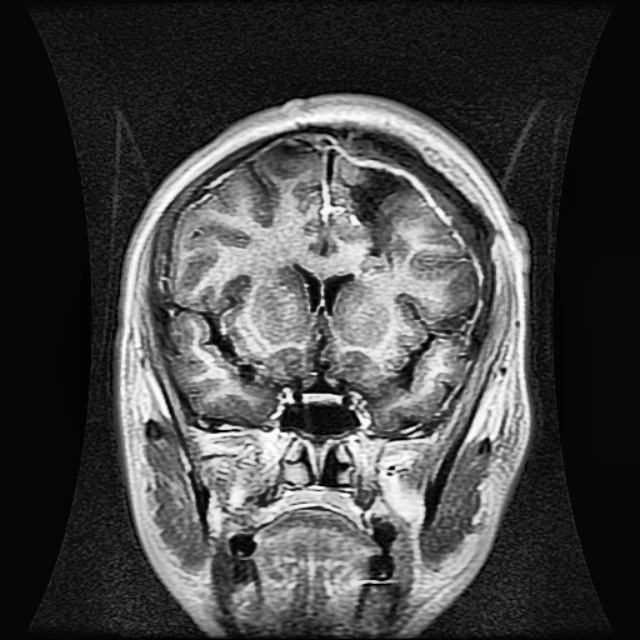Meningioma: (338, 165, 414, 244)
